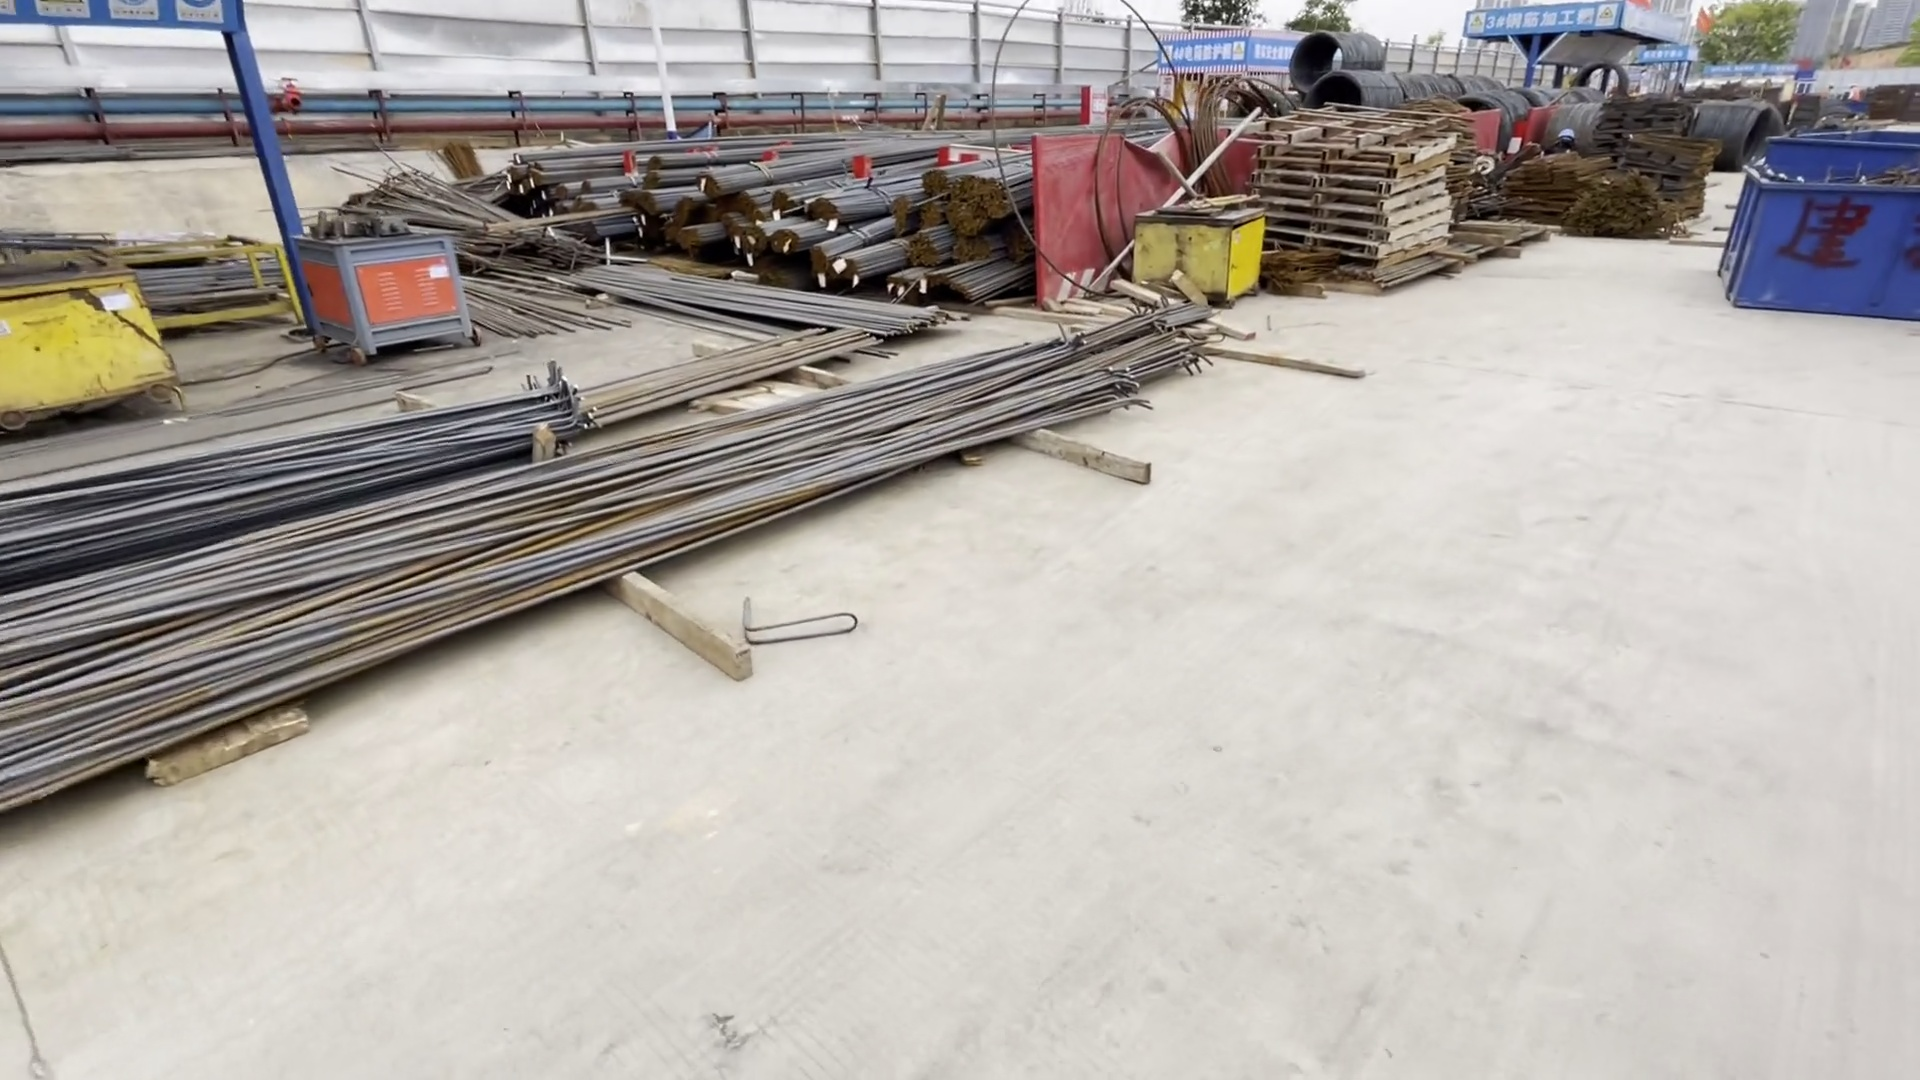hopper: (1716, 140, 1920, 316)
rebar: (1, 290, 1211, 829), (392, 173, 943, 384), (493, 117, 1034, 303)
